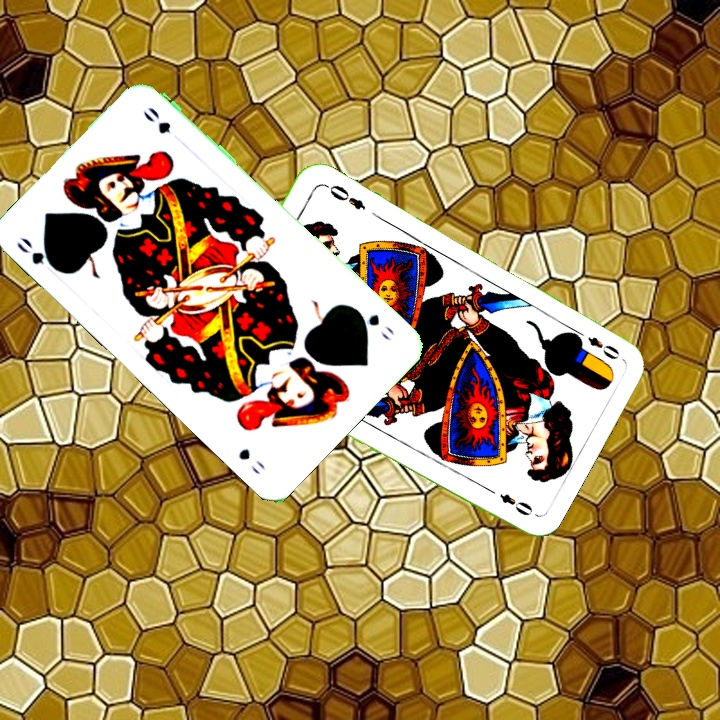EO: (569, 325, 622, 363)
GO: (12, 233, 64, 275), (350, 304, 397, 344)
